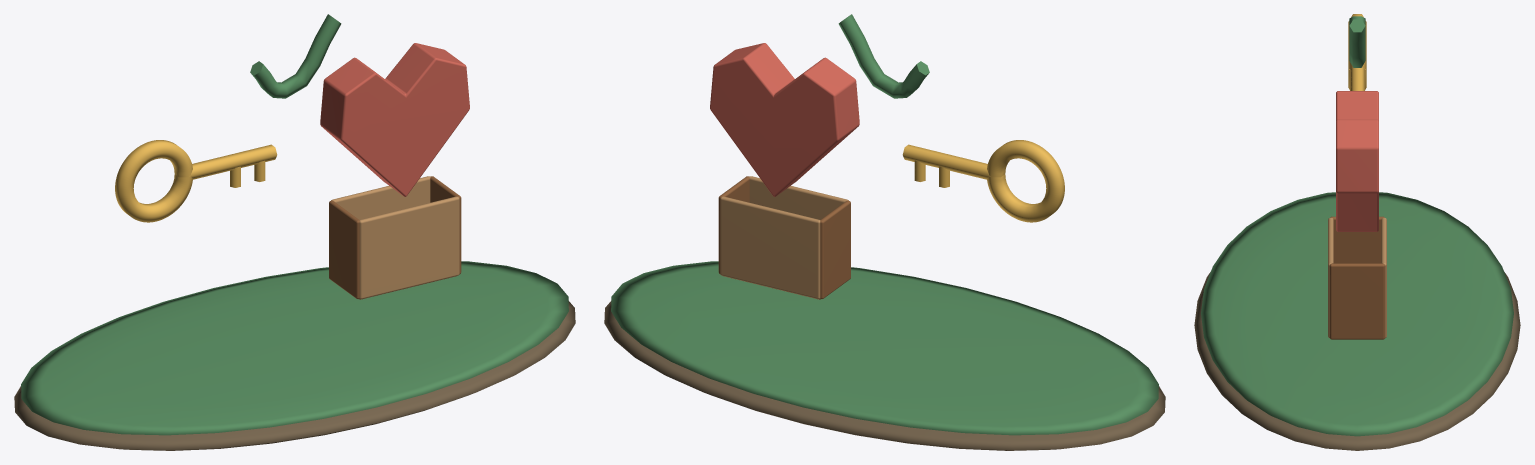
File: complete-second-only-condition.glb
3 renders of one model, left to right at view 1: azimuth 30°, elevation 25°; view 2: azimuth 150°, elevation 25°; view 3: azimuth 270°, elevation 25°, orthographic. The views are drawn at different scales.
Visible parts, largest first — view 1: complete-second-only-condition_surface_01, complete-second-only-condition_surface_03, complete-second-only-condition_surface_04, complete-second-only-condition_surface_00, complete-second-only-condition_surface_02, complete-second-only-condition_surface_05; view 2: complete-second-only-condition_surface_01, complete-second-only-condition_surface_03, complete-second-only-condition_surface_04, complete-second-only-condition_surface_00, complete-second-only-condition_surface_02, complete-second-only-condition_surface_05; view 3: complete-second-only-condition_surface_01, complete-second-only-condition_surface_00, complete-second-only-condition_surface_03, complete-second-only-condition_surface_05, complete-second-only-condition_surface_04, complete-second-only-condition_surface_02.
Part boxes in pixels (box(x1,y1,x2,y2)): complete-second-only-condition_surface_01: box(21, 14, 568, 435); complete-second-only-condition_surface_03: box(320, 43, 469, 196); complete-second-only-condition_surface_04: box(331, 176, 459, 299); complete-second-only-condition_surface_00: box(14, 301, 575, 450); complete-second-only-condition_surface_02: box(115, 140, 277, 222); complete-second-only-condition_surface_05: box(329, 176, 461, 299); complete-second-only-condition_surface_01: box(611, 14, 1158, 435); complete-second-only-condition_surface_03: box(710, 43, 859, 196); complete-second-only-condition_surface_04: box(720, 176, 848, 299); complete-second-only-condition_surface_00: box(604, 301, 1165, 450); complete-second-only-condition_surface_02: box(902, 140, 1064, 222); complete-second-only-condition_surface_05: box(718, 176, 850, 299); complete-second-only-condition_surface_01: box(1201, 16, 1513, 436); complete-second-only-condition_surface_00: box(1194, 272, 1520, 450); complete-second-only-condition_surface_03: box(1336, 91, 1378, 231); complete-second-only-condition_surface_05: box(1329, 216, 1385, 339); complete-second-only-condition_surface_04: box(1328, 217, 1386, 338); complete-second-only-condition_surface_02: box(1348, 14, 1366, 90).
Bounding box in the file's own units: 4.56 × 2.86 × 2.5.
